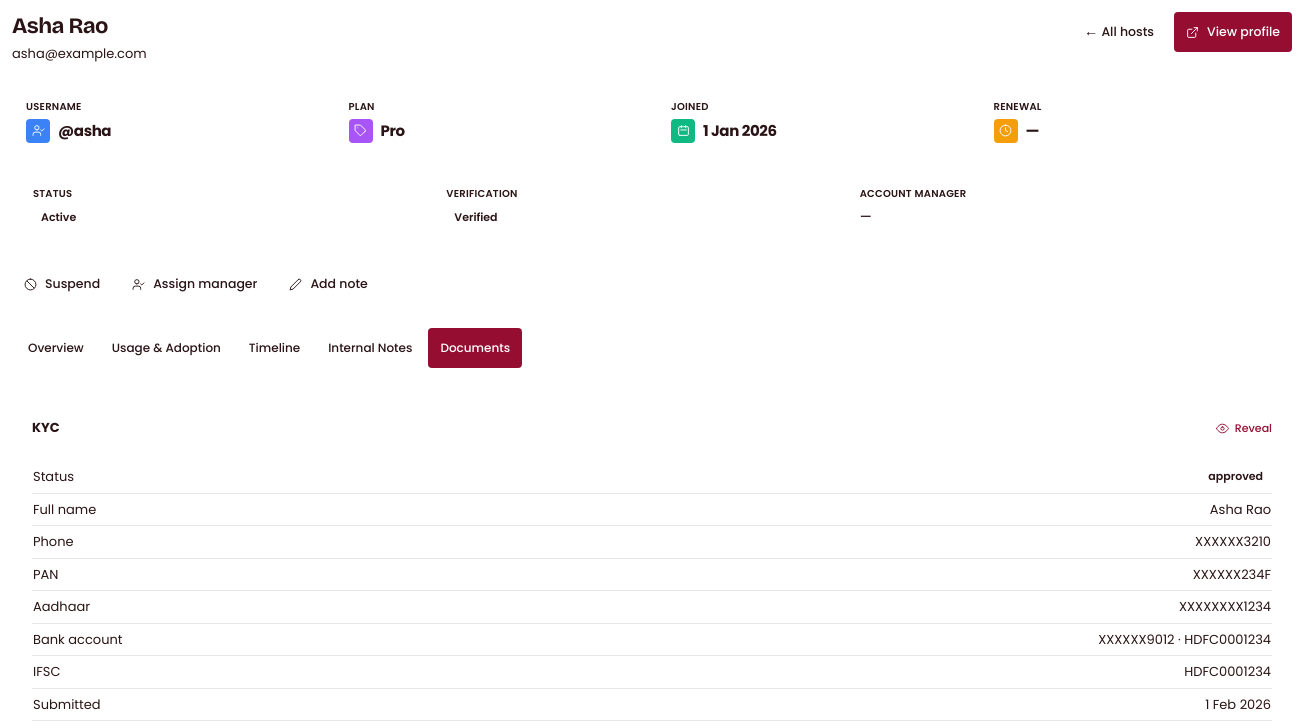
Reveal swaps masked for real values, then Hide drops them again
Expected: the text "XXXXXX234F" is shown, [138,558,1272,591]
Click the button "Reveal". click: point(1244, 428)
box: [1216,408,1272,448]
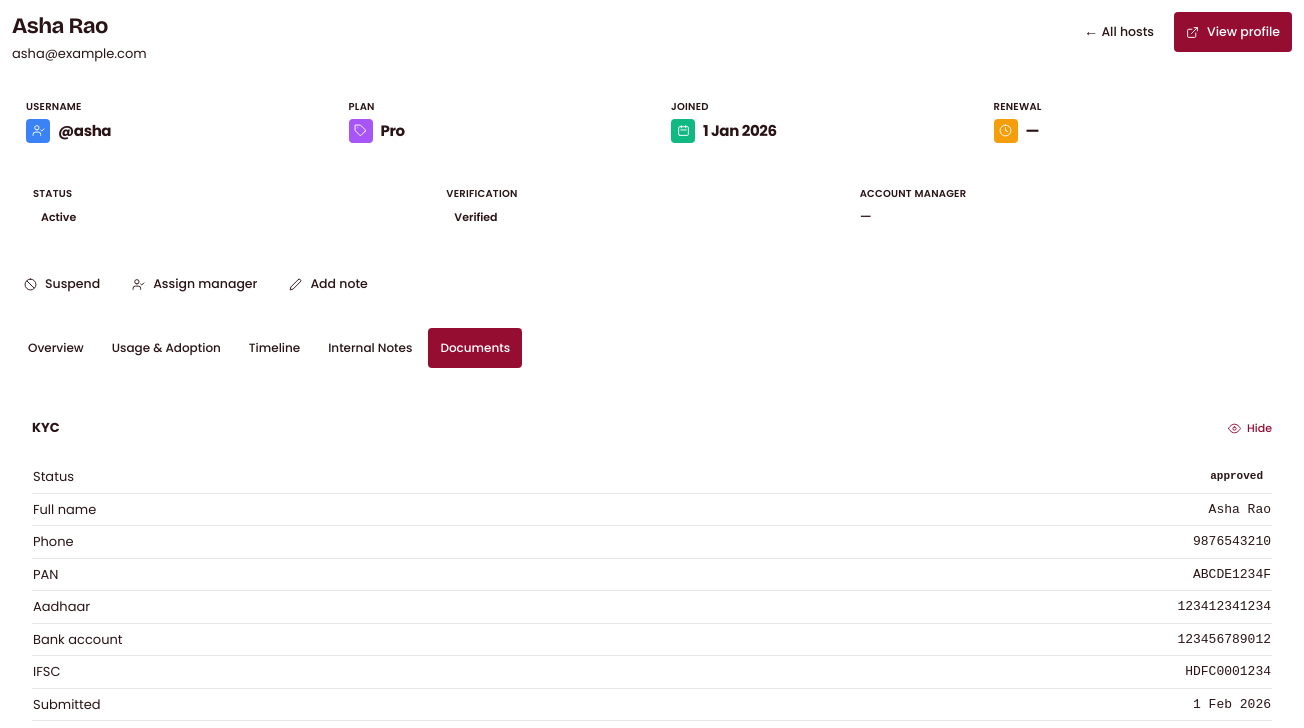
Now the text "ABCDE1234F" is shown, box [138,558,1272,591]
Now the text "123412341234" is shown, box [138,591,1272,623]
Now the text "XXXXXX234F" is gone
Click the button "Hide". click: point(1250, 428)
box: [1228,408,1272,448]
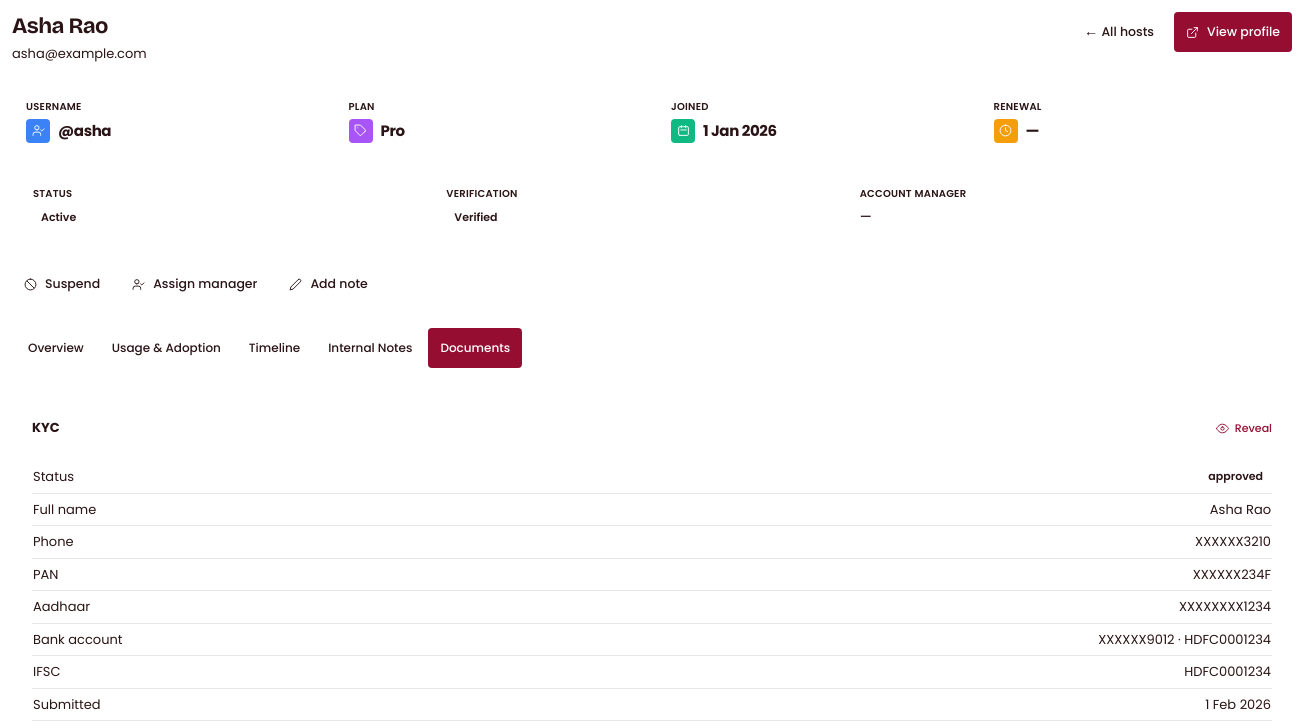
Now the text "XXXXXX234F" is shown, box [138,558,1272,591]
Now the text "ABCDE1234F" is gone
